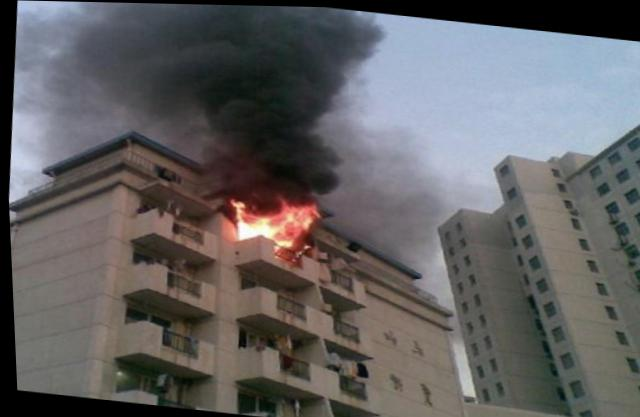fire: (230, 193, 317, 247)
smoke: (8, 0, 387, 138), (201, 121, 474, 199), (11, 104, 190, 140)
